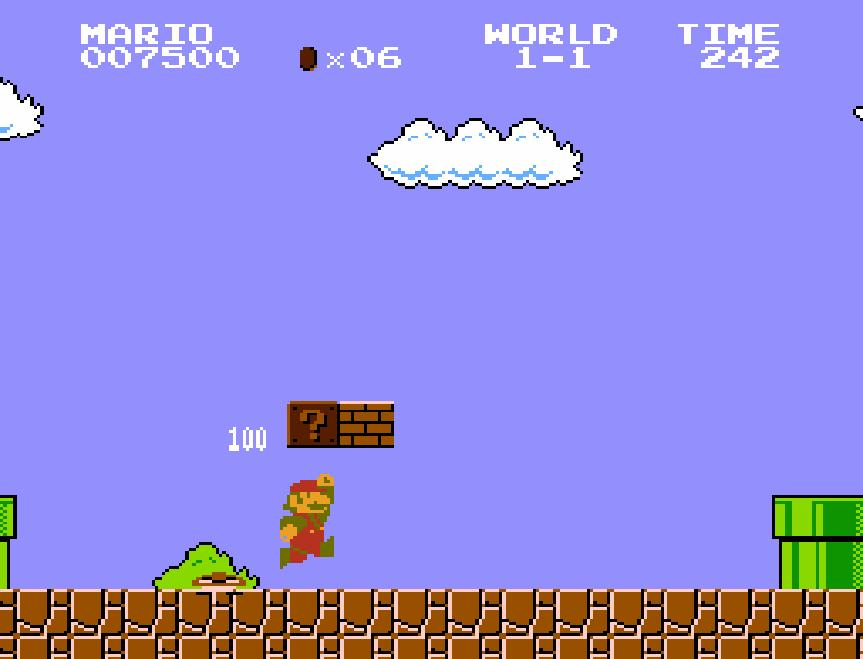big_mario: (278, 472, 336, 570)
